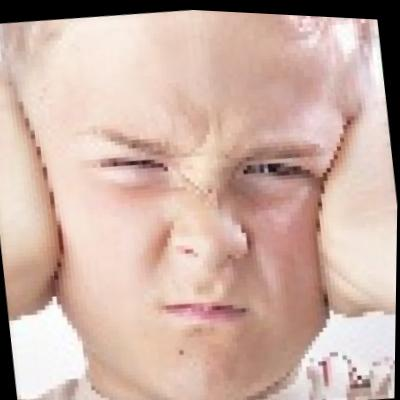angry: (9, 1, 365, 395)
